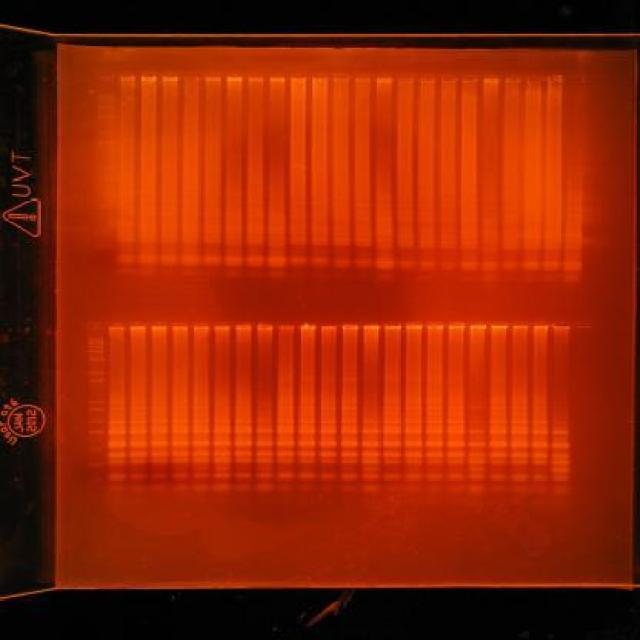B: (466, 482, 488, 496), (360, 482, 382, 495), (254, 482, 274, 496), (190, 482, 210, 495), (233, 482, 252, 495), (148, 483, 170, 494), (374, 272, 396, 283), (446, 483, 466, 494), (403, 482, 423, 493), (116, 266, 136, 277), (137, 266, 157, 277), (158, 267, 178, 278), (308, 269, 328, 280), (332, 270, 352, 281), (552, 484, 570, 496), (212, 482, 231, 493), (338, 482, 357, 493), (361, 472, 381, 482), (296, 438, 316, 448), (170, 482, 188, 493), (426, 483, 444, 494), (274, 472, 296, 481), (298, 483, 316, 494), (266, 270, 288, 279), (319, 438, 338, 448), (203, 268, 222, 278), (562, 272, 581, 282), (446, 472, 464, 482), (276, 483, 296, 492), (339, 440, 359, 449), (180, 268, 198, 278), (478, 273, 498, 282), (354, 272, 372, 282), (466, 473, 488, 481), (274, 450, 296, 458), (222, 260, 244, 268), (222, 270, 244, 278), (540, 266, 562, 274), (542, 274, 564, 282), (374, 258, 396, 266), (308, 256, 330, 264), (383, 483, 402, 492), (318, 484, 337, 493), (247, 270, 266, 279), (490, 484, 507, 494), (128, 483, 146, 492), (298, 472, 316, 481), (522, 274, 540, 283), (212, 457, 232, 465), (190, 464, 210, 472), (550, 474, 570, 482), (550, 466, 570, 474), (551, 458, 571, 466), (170, 458, 190, 466), (170, 450, 190, 458), (170, 440, 190, 448), (128, 440, 148, 448), (509, 474, 529, 482), (508, 486, 528, 494), (446, 440, 466, 448), (424, 440, 444, 448), (212, 439, 232, 447), (233, 439, 253, 447), (233, 457, 253, 465), (233, 472, 253, 480), (254, 457, 274, 465), (254, 472, 274, 480), (276, 440, 296, 448), (360, 458, 380, 466), (382, 440, 402, 448), (402, 440, 422, 448), (138, 253, 158, 261), (180, 253, 200, 261), (500, 259, 520, 267), (438, 259, 458, 267), (396, 258, 416, 266), (418, 258, 438, 266), (266, 240, 286, 248), (374, 243, 394, 251), (359, 441, 381, 448), (128, 472, 147, 480), (149, 472, 168, 480), (106, 484, 125, 492), (255, 439, 274, 447), (403, 473, 422, 481), (318, 472, 337, 480), (246, 255, 265, 263), (246, 262, 265, 270), (288, 212, 307, 220), (192, 472, 210, 480), (192, 457, 210, 465), (530, 473, 548, 481), (150, 439, 168, 447), (150, 457, 168, 465), (530, 485, 548, 493), (490, 440, 508, 448), (426, 473, 444, 481), (192, 439, 210, 447), (382, 473, 400, 481), (340, 472, 358, 480), (340, 458, 358, 466), (340, 450, 358, 458), (354, 258, 372, 266), (480, 259, 498, 267), (460, 274, 478, 282), (107, 441, 127, 448), (510, 441, 530, 448), (510, 452, 530, 459), (424, 451, 444, 458), (360, 451, 380, 458), (202, 255, 222, 262), (114, 254, 137, 260), (490, 473, 507, 481), (318, 451, 337, 458), (106, 452, 128, 458), (466, 458, 488, 464), (266, 256, 288, 262), (266, 263, 288, 269), (562, 266, 584, 272), (562, 261, 584, 267), (562, 236, 584, 242), (458, 261, 480, 267), (374, 264, 396, 270), (222, 240, 244, 246), (415, 234, 437, 240), (286, 241, 308, 247), (298, 457, 314, 465), (530, 441, 548, 448), (382, 451, 400, 458), (115, 238, 136, 244), (115, 261, 136, 267), (158, 238, 179, 244), (106, 474, 126, 480), (550, 452, 570, 458), (551, 442, 571, 448), (170, 428, 190, 434), (170, 418, 190, 424), (107, 458, 127, 464), (128, 452, 148, 458), (467, 441, 487, 447), (128, 402, 148, 408), (446, 418, 466, 424), (191, 418, 211, 424), (233, 428, 253, 434), (233, 452, 253, 458), (254, 451, 274, 457), (276, 457, 296, 463), (361, 466, 381, 472), (382, 424, 402, 430), (402, 452, 422, 458), (403, 458, 423, 464), (318, 430, 338, 436), (296, 451, 316, 457), (297, 424, 317, 430), (296, 418, 316, 424), (170, 466, 190, 472), (128, 466, 148, 472), (136, 247, 156, 253), (138, 260, 158, 266), (224, 256, 244, 262), (563, 240, 583, 246), (500, 267, 520, 273), (522, 261, 542, 267), (542, 260, 562, 266), (542, 254, 562, 260), (542, 240, 562, 246), (542, 236, 562, 242), (458, 267, 478, 273), (458, 244, 478, 250), (438, 234, 458, 240), (397, 266, 417, 272), (438, 267, 458, 273), (288, 256, 308, 262), (309, 264, 329, 270), (246, 230, 266, 236), (266, 230, 286, 236), (158, 248, 178, 254), (181, 233, 201, 239), (158, 234, 178, 240), (396, 238, 416, 244), (331, 236, 351, 242), (309, 236, 329, 242), (309, 241, 329, 247), (479, 248, 499, 254), (116, 227, 136, 233), (159, 197, 179, 203), (138, 210, 158, 216), (202, 206, 222, 212), (202, 198, 222, 204), (309, 200, 329, 206), (416, 210, 436, 216), (244, 206, 264, 212), (212, 472, 231, 478), (212, 466, 231, 472), (128, 458, 147, 464), (509, 460, 528, 466), (488, 452, 507, 458), (488, 418, 507, 424), (149, 400, 168, 406), (149, 424, 168, 430), (212, 418, 231, 424), (213, 428, 232, 434), (213, 451, 232, 457), (276, 418, 295, 424), (276, 424, 295, 430), (276, 428, 295, 434), (318, 424, 337, 430), (318, 418, 337, 424), (318, 458, 337, 464), (138, 238, 157, 244), (159, 254, 178, 260), (159, 260, 178, 266), (203, 262, 222, 268), (563, 254, 582, 260), (522, 267, 541, 273), (522, 240, 541, 246), (438, 244, 457, 250), (289, 262, 308, 268), (333, 258, 352, 264), (246, 240, 265, 246), (116, 196, 135, 202), (532, 451, 548, 458), (115, 233, 137, 238), (179, 229, 201, 234), (243, 200, 265, 205), (170, 473, 188, 479), (530, 460, 548, 466), (150, 418, 168, 424), (150, 451, 168, 457), (490, 458, 508, 464), (468, 452, 486, 458), (467, 466, 485, 472), (108, 400, 126, 406), (446, 458, 464, 464), (447, 452, 465, 458), (446, 410, 464, 416), (510, 410, 528, 416), (490, 410, 508, 416), (426, 410, 444, 416), (426, 458, 444, 464), (192, 451, 210, 457), (234, 418, 252, 424), (360, 418, 378, 424), (382, 418, 400, 424), (382, 458, 400, 464), (404, 418, 422, 424), (404, 424, 422, 430), (340, 430, 358, 436), (298, 428, 316, 434), (447, 400, 465, 406), (150, 466, 168, 472), (404, 410, 422, 416), (355, 264, 373, 270), (180, 260, 198, 266), (564, 244, 582, 250), (480, 266, 498, 272), (502, 240, 520, 246), (502, 244, 520, 250), (420, 266, 438, 272), (268, 250, 286, 256), (182, 238, 200, 244), (224, 234, 242, 240), (375, 238, 393, 244), (354, 232, 372, 238), (160, 204, 178, 210), (396, 210, 414, 216), (396, 216, 414, 222), (332, 200, 350, 206), (158, 230, 179, 235), (426, 418, 443, 424), (255, 466, 272, 472), (319, 410, 336, 416), (276, 410, 293, 416), (247, 248, 264, 254), (550, 430, 570, 435), (107, 420, 127, 425), (128, 430, 148, 435), (510, 419, 530, 424), (510, 400, 530, 405), (128, 406, 148, 411), (446, 425, 466, 430), (128, 425, 148, 430), (360, 429, 380, 434), (382, 396, 402, 401), (403, 430, 423, 435), (340, 410, 360, 415), (138, 233, 158, 238), (542, 245, 562, 250), (522, 235, 542, 240), (522, 246, 542, 251), (266, 235, 286, 240), (202, 229, 222, 234), (202, 239, 222, 244), (223, 229, 243, 234), (396, 243, 416, 248), (287, 236, 307, 241), (532, 430, 548, 436), (256, 418, 272, 424), (509, 425, 528, 430), (509, 430, 528, 435), (488, 430, 507, 435), (488, 425, 507, 430), (192, 405, 211, 410), (192, 429, 211, 434), (255, 429, 274, 434), (438, 240, 457, 245), (245, 235, 264, 240), (458, 203, 477, 208), (108, 430, 126, 435), (108, 425, 126, 430), (150, 429, 168, 434), (467, 419, 485, 424), (468, 429, 486, 434), (468, 405, 486, 410), (510, 405, 528, 410), (108, 412, 126, 417), (192, 400, 210, 405), (447, 430, 465, 435), (446, 396, 464, 401), (426, 406, 444, 411), (426, 425, 444, 430), (426, 430, 444, 435), (382, 429, 400, 434), (340, 425, 358, 430), (340, 419, 358, 424), (340, 405, 358, 410), (298, 405, 316, 410), (382, 410, 400, 415), (460, 240, 478, 245), (460, 235, 478, 240), (502, 235, 520, 240), (418, 239, 436, 244), (375, 233, 393, 238), (354, 242, 372, 247), (332, 232, 350, 237), (396, 203, 414, 208), (332, 264, 354, 268), (129, 419, 146, 424), (490, 395, 507, 400), (489, 400, 506, 405), (108, 406, 125, 411), (289, 200, 306, 205), (532, 419, 548, 424), (532, 425, 548, 430), (170, 424, 190, 428), (532, 400, 548, 405), (172, 405, 188, 410), (172, 400, 188, 405), (448, 405, 464, 410), (532, 405, 548, 410), (320, 405, 336, 410), (202, 234, 222, 238), (396, 234, 416, 238), (332, 242, 352, 246), (310, 232, 330, 236), (288, 232, 308, 236), (118, 210, 134, 215), (502, 212, 518, 217), (331, 214, 351, 218), (129, 398, 148, 402), (129, 412, 148, 416), (138, 198, 157, 202), (192, 424, 210, 428), (234, 424, 252, 428), (298, 412, 316, 416), (418, 244, 436, 248), (354, 238, 372, 242), (416, 204, 434, 208), (108, 398, 125, 402), (532, 412, 548, 416), (172, 412, 188, 416), (276, 397, 295, 400), (510, 397, 528, 400), (150, 406, 168, 409), (192, 396, 210, 399), (382, 406, 400, 409), (404, 397, 422, 400), (340, 397, 358, 400), (298, 397, 316, 400), (490, 406, 507, 409), (426, 397, 443, 400), (320, 397, 337, 400), (532, 397, 548, 400), (172, 397, 188, 400), (278, 406, 294, 409), (406, 406, 422, 409), (384, 377, 399, 380), (213, 426, 232, 428), (404, 378, 422, 380), (277, 378, 294, 380), (319, 378, 336, 380), (426, 378, 442, 380), (341, 378, 357, 380)
L: (92, 68, 570, 86), (80, 318, 592, 332), (83, 334, 106, 489)
M: (92, 88, 116, 286)
P: (95, 241, 116, 250), (95, 220, 116, 228), (86, 476, 105, 484), (86, 447, 105, 455), (95, 138, 116, 144), (96, 188, 116, 194), (86, 462, 105, 468), (96, 202, 115, 208), (88, 418, 104, 424), (86, 430, 105, 435), (96, 165, 115, 170), (96, 175, 115, 180), (87, 399, 104, 404), (96, 184, 116, 188), (96, 114, 115, 118), (87, 338, 104, 342), (97, 98, 114, 102), (88, 378, 104, 382), (96, 131, 115, 134), (97, 102, 114, 105), (88, 371, 104, 374), (98, 107, 114, 110), (87, 408, 104, 410), (87, 344, 104, 346), (88, 358, 104, 360), (88, 350, 104, 352), (88, 346, 104, 348), (88, 342, 104, 344), (97, 98, 114, 99)
Pc: (96, 70, 116, 82), (460, 73, 480, 84), (353, 72, 372, 83), (546, 73, 565, 84), (503, 73, 522, 84), (138, 72, 158, 82), (160, 72, 180, 82), (417, 74, 437, 84), (204, 72, 222, 83), (268, 72, 286, 83), (310, 73, 328, 84), (375, 72, 393, 83), (482, 74, 500, 85), (118, 72, 137, 82), (84, 321, 105, 330), (182, 72, 200, 82), (332, 73, 352, 82), (438, 74, 458, 83), (524, 74, 544, 83), (225, 73, 244, 82), (396, 74, 414, 83), (426, 322, 446, 330), (340, 322, 360, 330), (247, 73, 264, 82), (128, 322, 147, 330), (192, 322, 211, 330), (213, 322, 232, 330), (298, 322, 317, 330), (289, 74, 308, 82), (108, 322, 126, 330), (150, 322, 168, 330), (172, 322, 190, 330), (234, 323, 252, 331), (278, 322, 296, 330), (362, 323, 380, 331), (511, 321, 531, 328), (488, 322, 508, 329), (404, 322, 424, 329), (256, 322, 273, 330), (468, 322, 487, 329), (383, 322, 402, 329), (532, 322, 550, 329), (447, 322, 465, 329), (552, 322, 571, 328), (320, 323, 338, 329), (574, 323, 591, 328)
